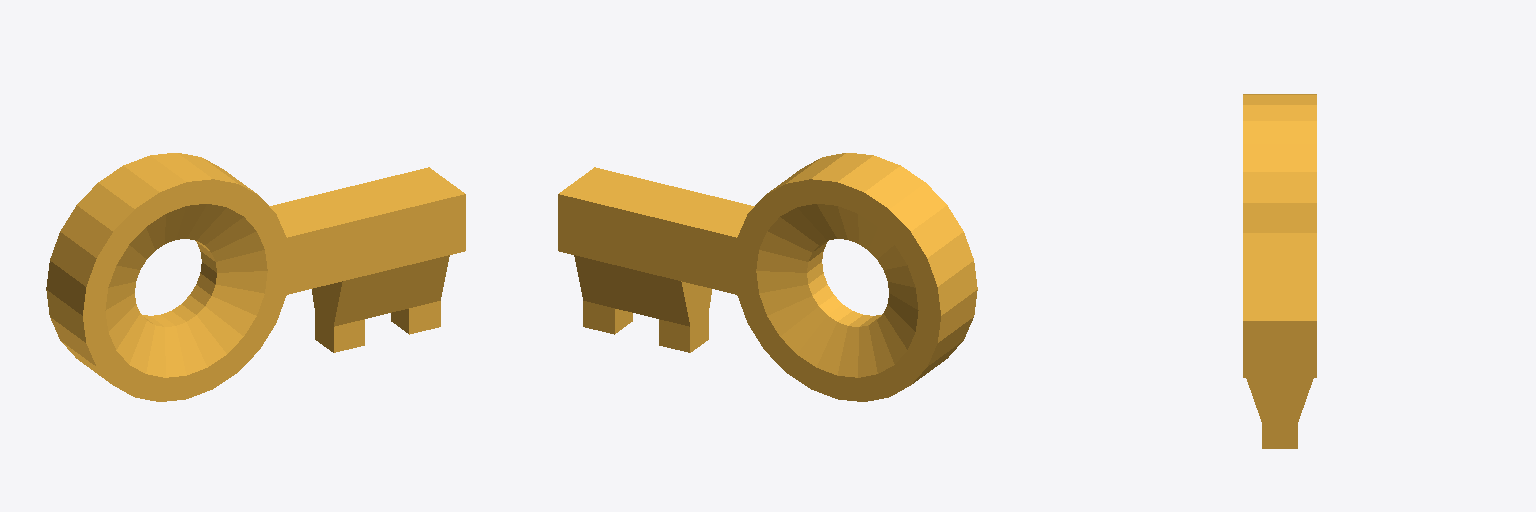
Rendered from key.obj.
The picture shows the model from 3 angles: view 1: azimuth 30°, elevation 25°; view 2: azimuth 150°, elevation 25°; view 3: azimuth 270°, elevation 25°; orthographic projection.
Visible parts, largest first — view 1: key; view 2: key; view 3: key.
Part boxes in pixels (left/top/right/bottom): key: left=46, top=153, right=465, bottom=401; key: left=558, top=153, right=977, bottom=401; key: left=1243, top=94, right=1316, bottom=448.
Size of the model in its own units: 0.4107 by 0.2227 by 0.0679.